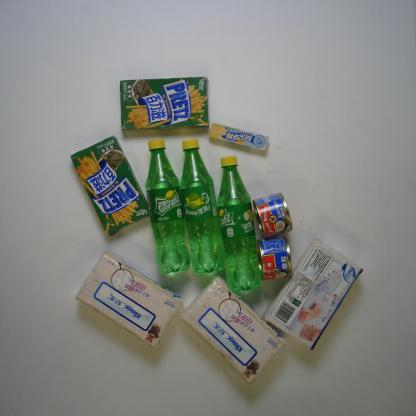Candy: (209, 121, 270, 152)
Canned Food: (252, 192, 293, 241), (255, 236, 294, 282)
Dessert: (69, 135, 150, 238), (119, 76, 210, 132)
Drink: (178, 137, 228, 276), (144, 137, 191, 277), (216, 155, 262, 293)
Tissue: (178, 275, 286, 387), (262, 237, 364, 352), (73, 250, 184, 349)
